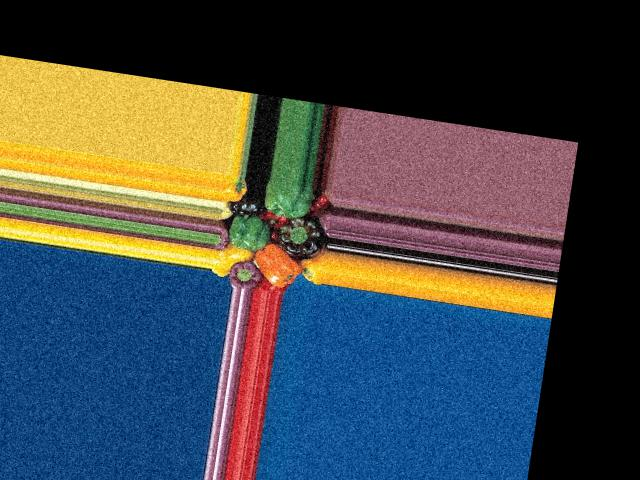bell_pepper: (264, 179, 316, 217)
